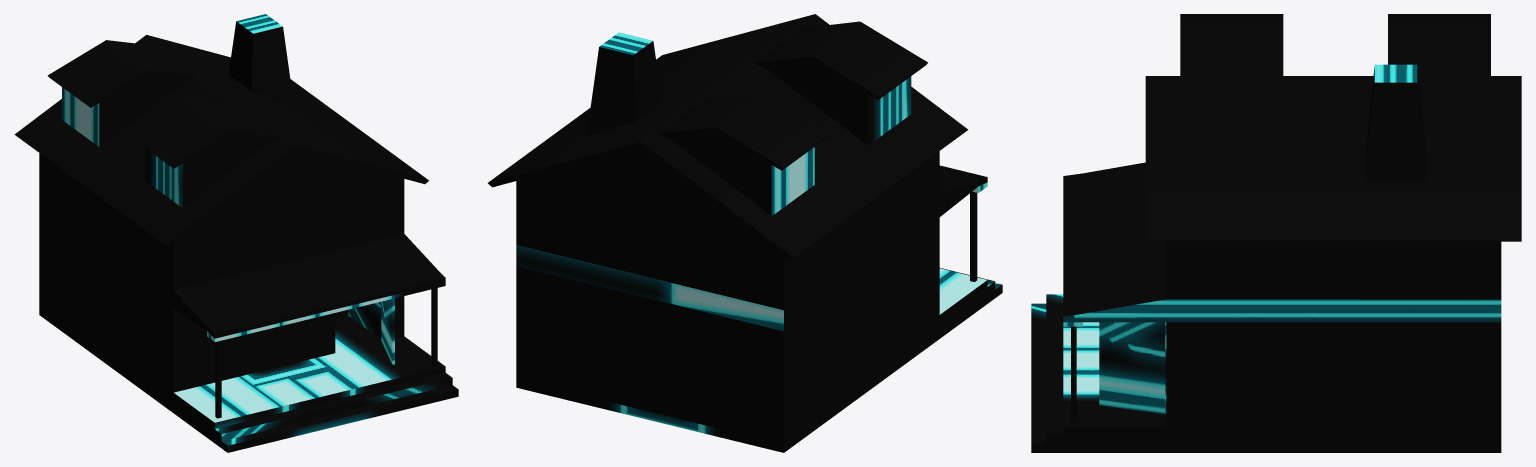
Rendered from Building_MedHouse_UNWRAPPED_02.fbx.
3 views of the same model, side by side, from view 1: azimuth 30°, elevation 25°; view 2: azimuth 150°, elevation 25°; view 3: azimuth 270°, elevation 25° (orthographic). The views are drawn at different scales.
Visible parts, largest first — view 1: Building_MedHouse_01; view 2: Building_MedHouse_01; view 3: Building_MedHouse_01.
Part boxes in pixels (x1,y1,x2,y2): Building_MedHouse_01: [14, 14, 458, 452]; Building_MedHouse_01: [488, 14, 1002, 452]; Building_MedHouse_01: [1031, 14, 1521, 452].
Bounding box in the file's own units: 852 × 858 × 1099.
